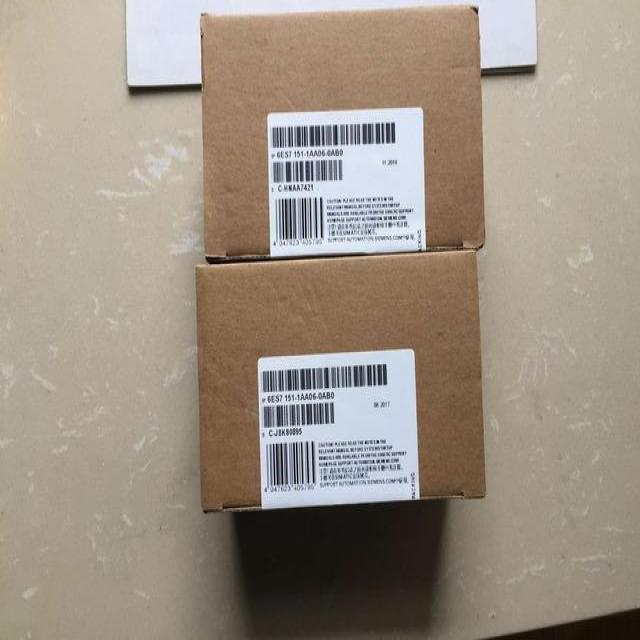box: (192, 250, 489, 531), (193, 3, 489, 249)
